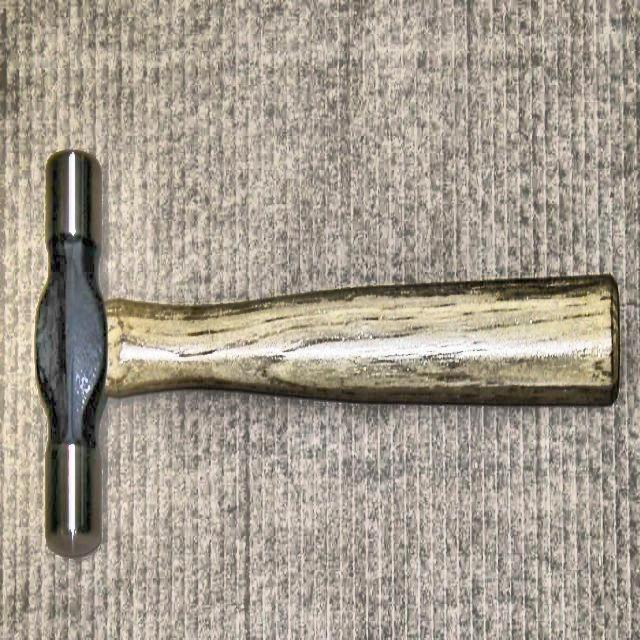hammer: (33, 150, 627, 558)
